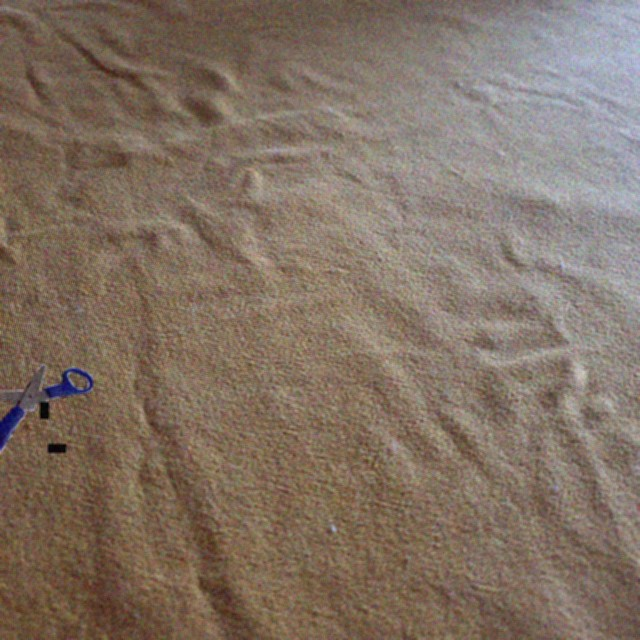scissors: (0, 363, 93, 464)
